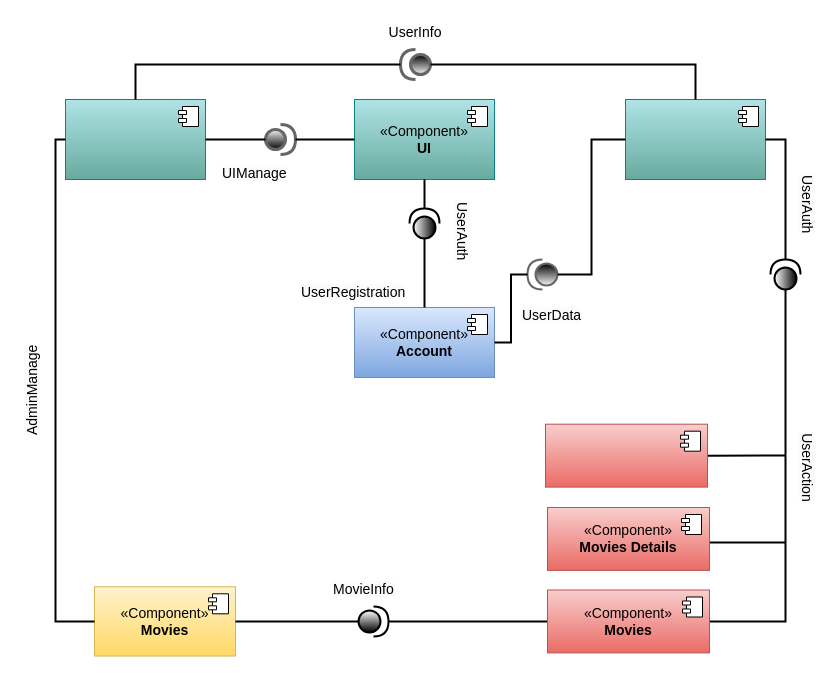
Image size: 839x673. Some labels were removed from this diagram. The shapes that lost their labels are listed below. From the top down, each one's centre as x and y in pixels, then its label:
the point at 135,139: «Component» Admin
the point at 695,139: «Component» User
the point at 626,455: «Component» Genres
